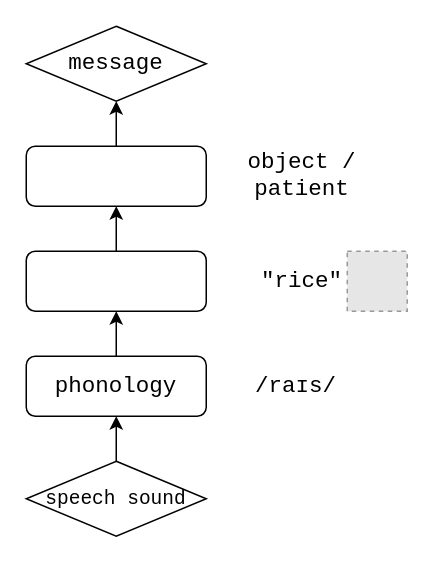
Some shapes in this 434 by 563 pixel diagram are drawn without their labels. Grey dashed boxes stand in for pictures. Here are the shapes that lost their labels. From the top down, the centre of each, then its label:
At point 115,175: "syntax".
At point 115,280: "semantics".
